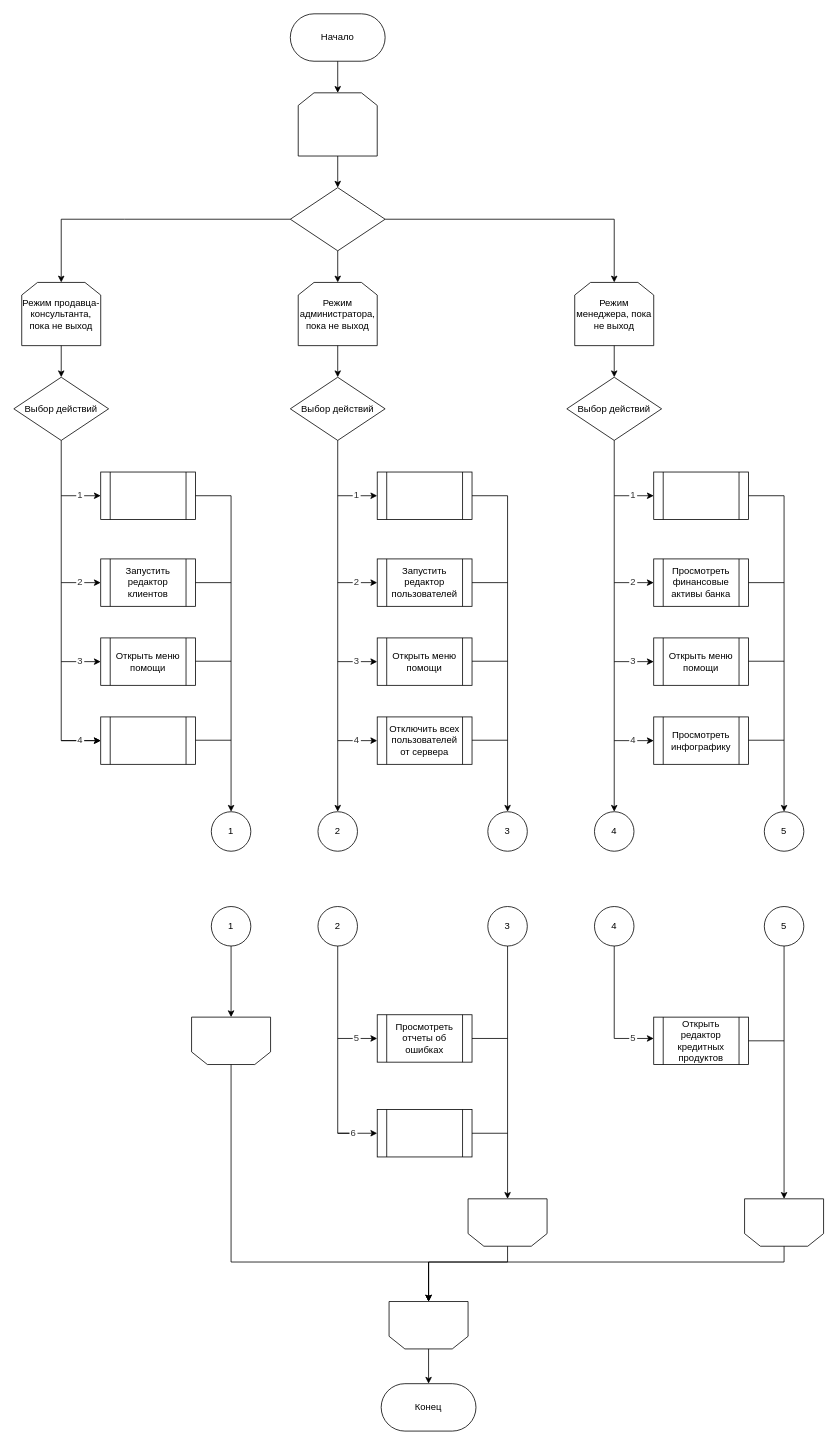
Some shapes in this 837 by 1445 pixel diagram are drawn without their labels. Each missing label, with the centre of its shape:
Авторизация: (x=337, y=219)
Запустить соринг: (x=148, y=495)
Меню первого уровня: (x=428, y=1325)
Меню первого уровня, пока не выход: (x=337, y=124)
Открыть список кредитных продуктов: (x=148, y=740)
Перезапустить сервер: (x=424, y=1133)
Просмотреть активных пользователей: (x=424, y=495)
Просмотреть данные скоринга: (x=701, y=495)
Режим администратора: (x=507, y=1222)
Режим менеджера: (x=784, y=1222)
Режим продавца-консультанта: (x=231, y=1040)
